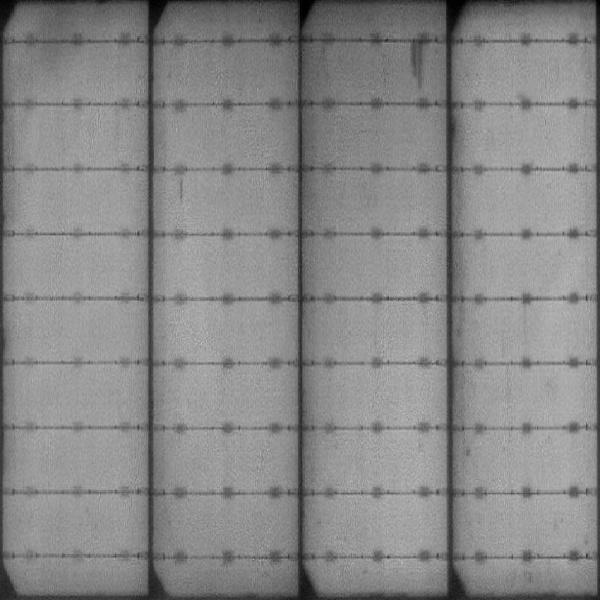scratch: (407, 41, 427, 86)
